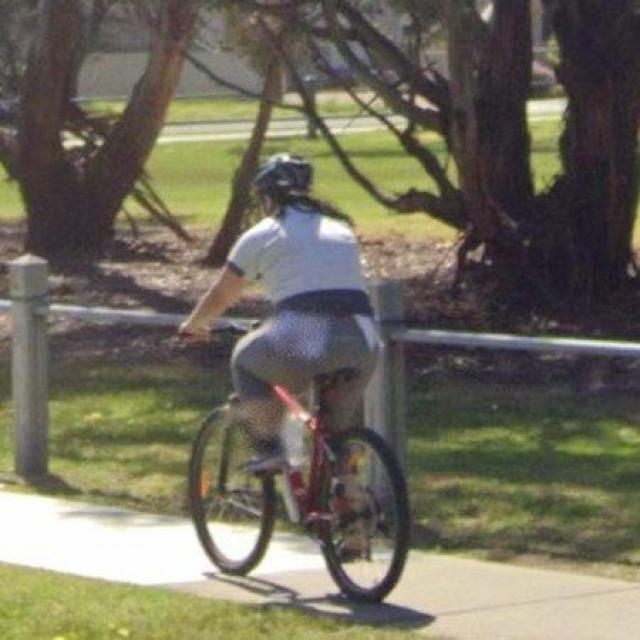bicycle: (190, 388, 412, 605)
